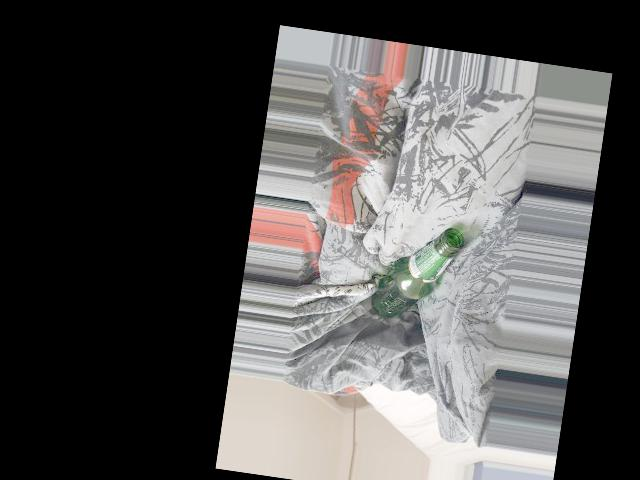beer: (369, 218, 464, 326)
